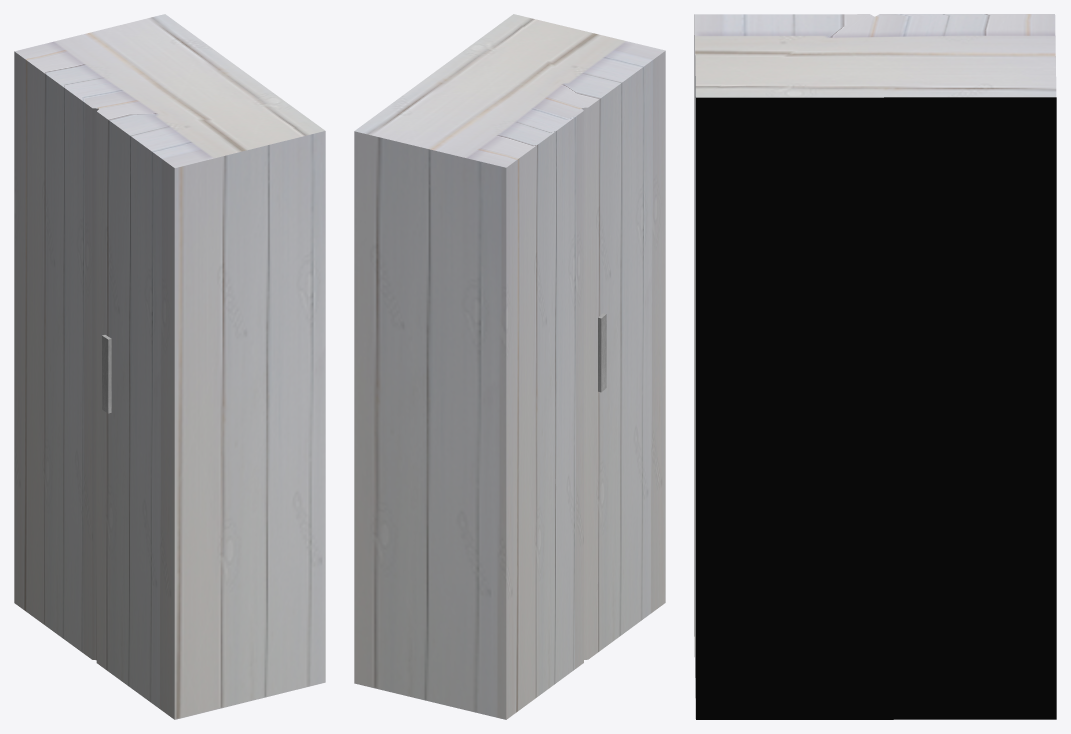
File: Closet.fbx
3 renders of one model, left to right at view 1: azimuth 30°, elevation 25°; view 2: azimuth 150°, elevation 25°; view 3: azimuth 270°, elevation 25°, orthographic. The views are drawn at different scales.
Visible parts, largest first — view 1: Closet; view 2: Closet; view 3: Closet.
Boxes of the visible parts, x1,y1,x2,y2 form: Closet: (14, 14, 325, 719); Closet: (354, 14, 665, 719); Closet: (694, 14, 1056, 719).
Bounding box in the file's own units: 16.87 × 57.1 × 30.1.
